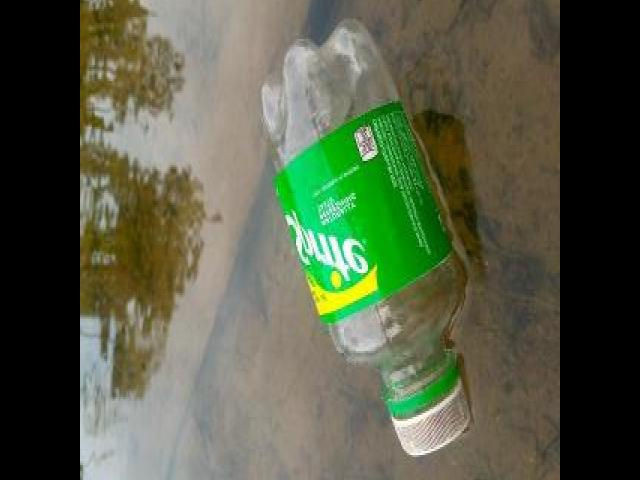Bottle: (259, 14, 477, 458)
